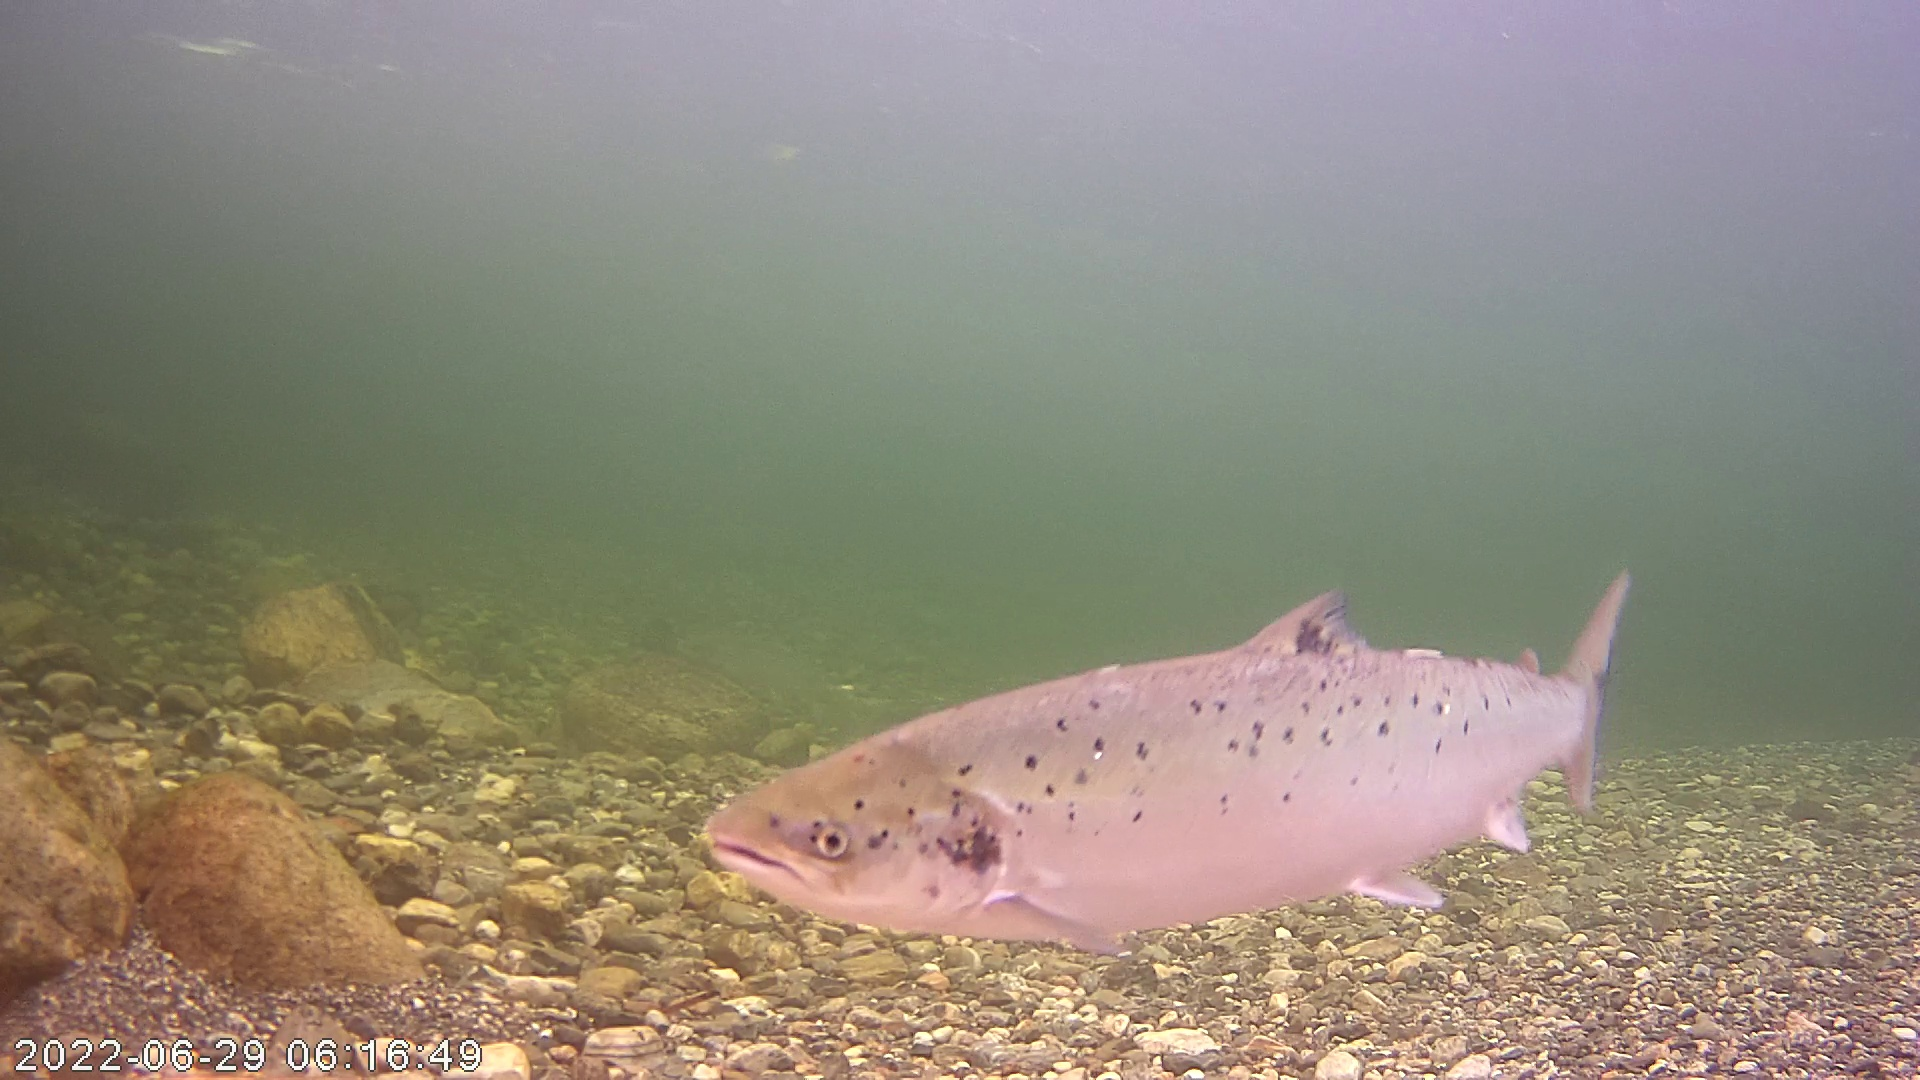salmon: (752, 502, 1625, 947)
